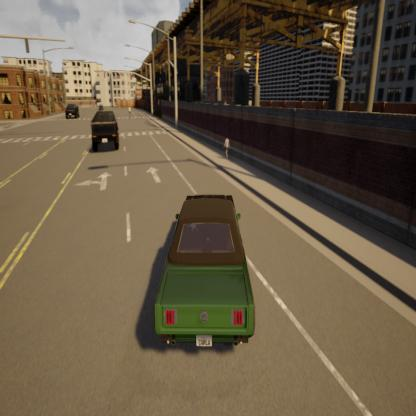Cars: (136, 166, 254, 372), (88, 107, 132, 168), (61, 95, 84, 134)
Pedestrian: (210, 110, 240, 177)
